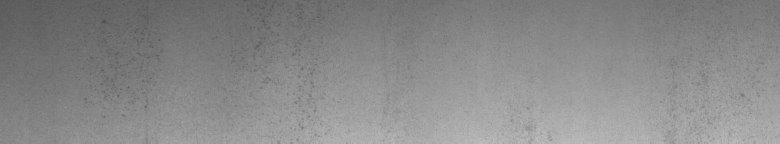ib: (245, 20, 314, 130)
